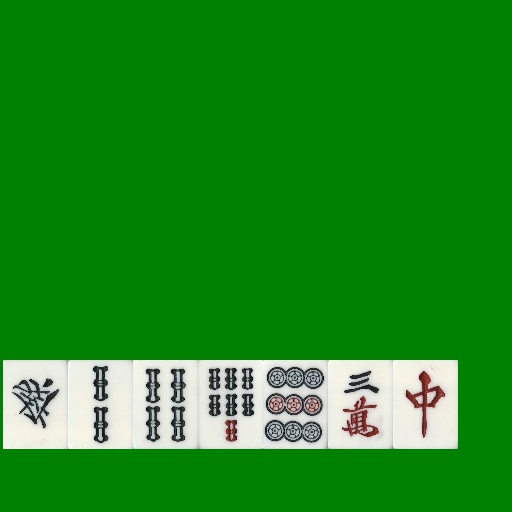2s: (68, 360, 133, 449)
3m: (328, 360, 393, 449)
4s: (133, 360, 198, 449)
7s: (198, 360, 263, 449)
9p: (263, 360, 328, 449)
hatsu: (3, 360, 68, 449)
tyun: (393, 360, 458, 449)
